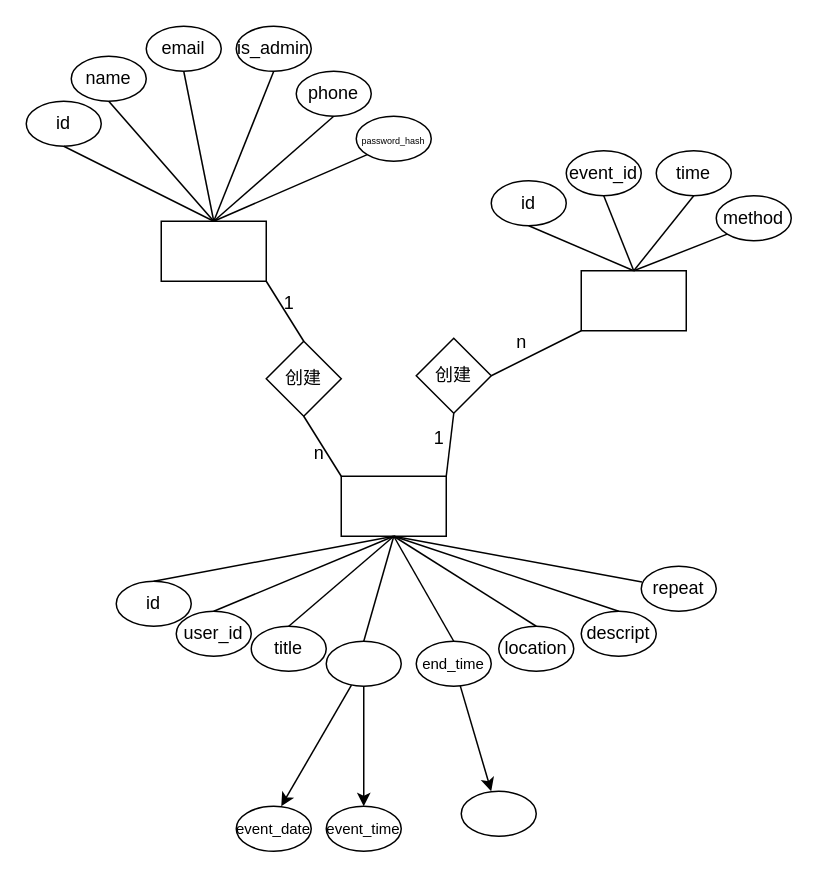
This 818x878 diagram has some shape labels left out. Here are the shapes that lost their labels. From the top down, the centre of each, then its label:
At point (213, 250): "Users".
At point (633, 300): "Reminders".
At point (393, 505): "Events".
At point (363, 663): "start_time".
At point (498, 813): "end_date".
